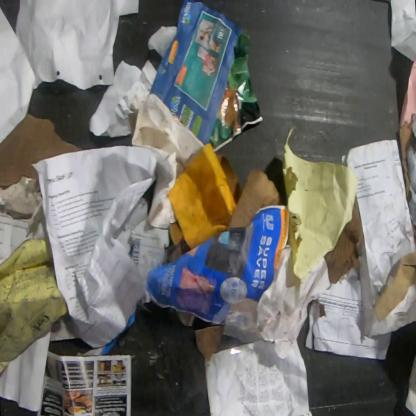cardboard: (0, 112, 85, 189), (215, 153, 284, 230), (128, 216, 171, 304), (322, 195, 363, 284), (372, 251, 415, 324), (398, 115, 414, 199), (194, 324, 224, 366), (168, 221, 184, 248)
soft_plastic: (207, 31, 264, 153), (146, 25, 178, 59), (228, 336, 244, 356)
